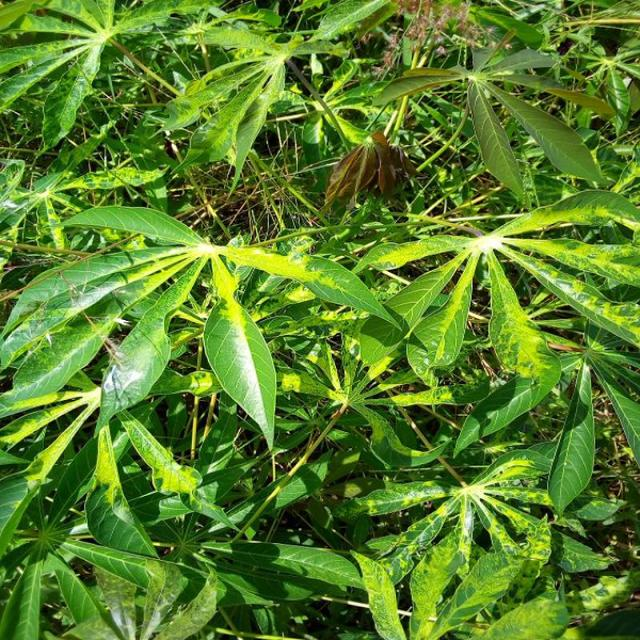cassava leaf: (202, 297, 276, 451)
